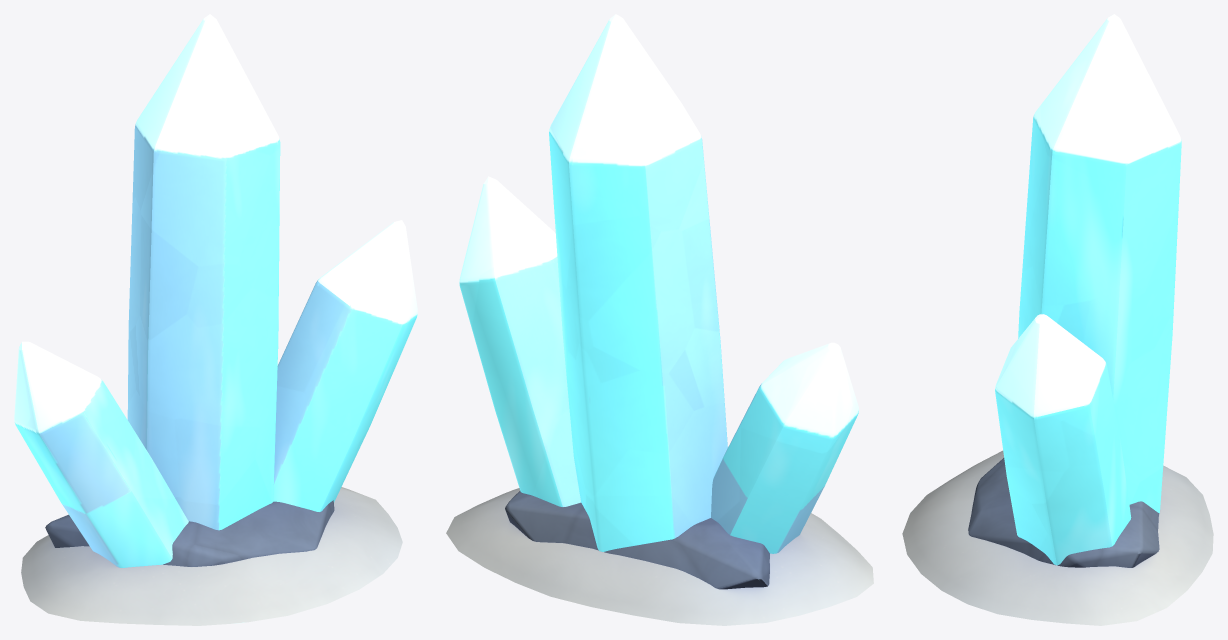
The model's file is FP_P05_IceCrystals.fbx.
The picture shows the model from 3 angles, left to right: view 1: azimuth 30°, elevation 25°; view 2: azimuth 150°, elevation 25°; view 3: azimuth 270°, elevation 25°; orthographic projection. The views are drawn at different scales.
Parts seen in each view (by area): view 1: Crystals, Base; view 2: Crystals, Base; view 3: Crystals, Base.
Boxes of the visible parts, x1,y1,x2,y2 form: Crystals: (14, 14, 417, 567); Base: (21, 487, 402, 625); Crystals: (459, 14, 858, 553); Base: (446, 488, 873, 625); Crystals: (995, 14, 1181, 565); Base: (902, 450, 1213, 625).
Size of the model in its own units: 1.35 by 1.8 by 0.954.
